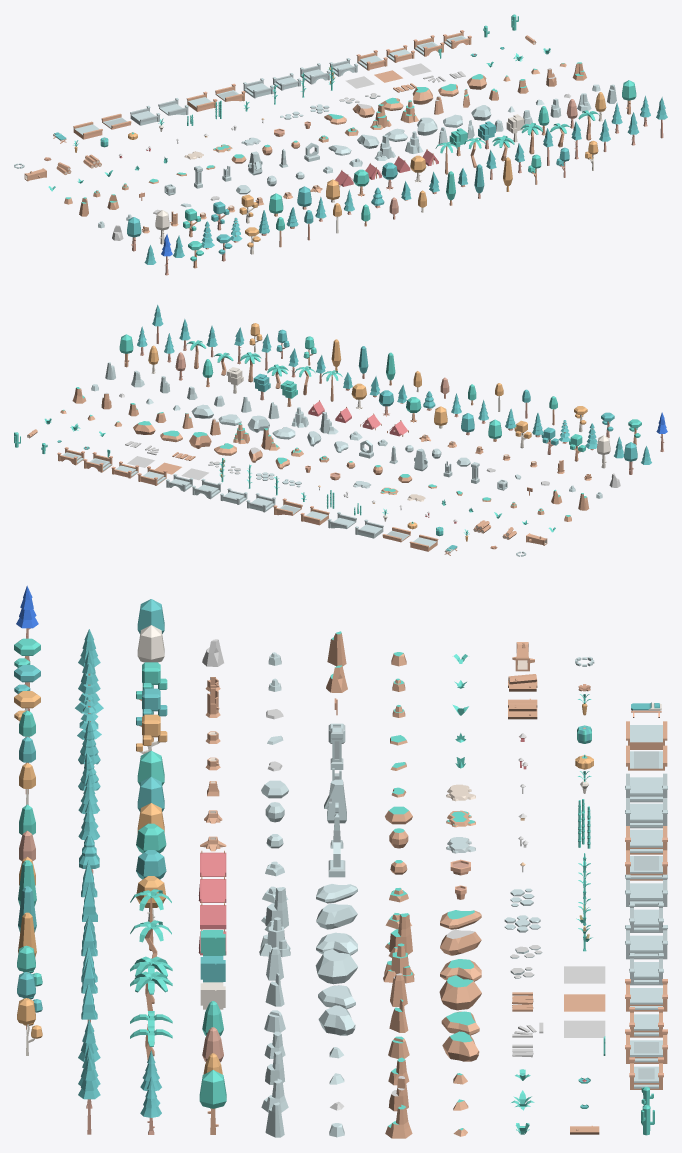
Rendered from tiles1.glb.
The picture shows the model from 3 angles, top to bottom: view 1: azimuth 30°, elevation 25°; view 2: azimuth 150°, elevation 25°; view 3: azimuth 270°, elevation 25°; orthographic projection. The views are drawn at different scales.
Visible parts, largest first — view 1: bridge_wood, bridge_stone, bridge_stoneRound; view 2: no part large enough to name; view 3: bridge_side_stoneRound, bridge_stoneRound, rock_largeD, bridge_side_stone, bridge_side_wood, stone_largeD, bridge_woodRound, bridge_stone, bridge_wood, tree_default, bridge_side_woodRound, bridge_center_wood (+10 smaller).
Part boxes in pixels (x1,y1,x2,y2): bridge_wood: (356,50,387,70); bridge_stone: (243,78,273,98); bridge_stoneRound: (300,63,330,84); bridge_side_stoneRound: (625,798,667,828); bridge_stoneRound: (625,925,667,959); rock_largeD: (439,975,481,1010); bridge_side_stone: (625,773,667,802); bridge_side_wood: (625,826,667,854); stone_largeD: (315,949,357,984); bridge_woodRound: (625,1029,667,1063); bridge_stone: (625,874,667,906); bridge_wood: (625,979,667,1011); tree_default: (199,1070,226,1134); bridge_side_woodRound: (625,850,667,880); bridge_center_wood: (626,721,667,749).
Bounding box in the file's own units: 27.88 × 2.08 × 15.85.
